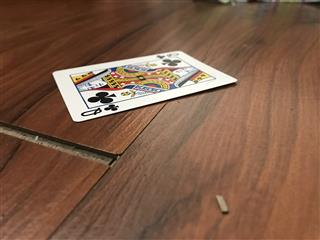QueenOfClubs: (51, 49, 237, 122)
